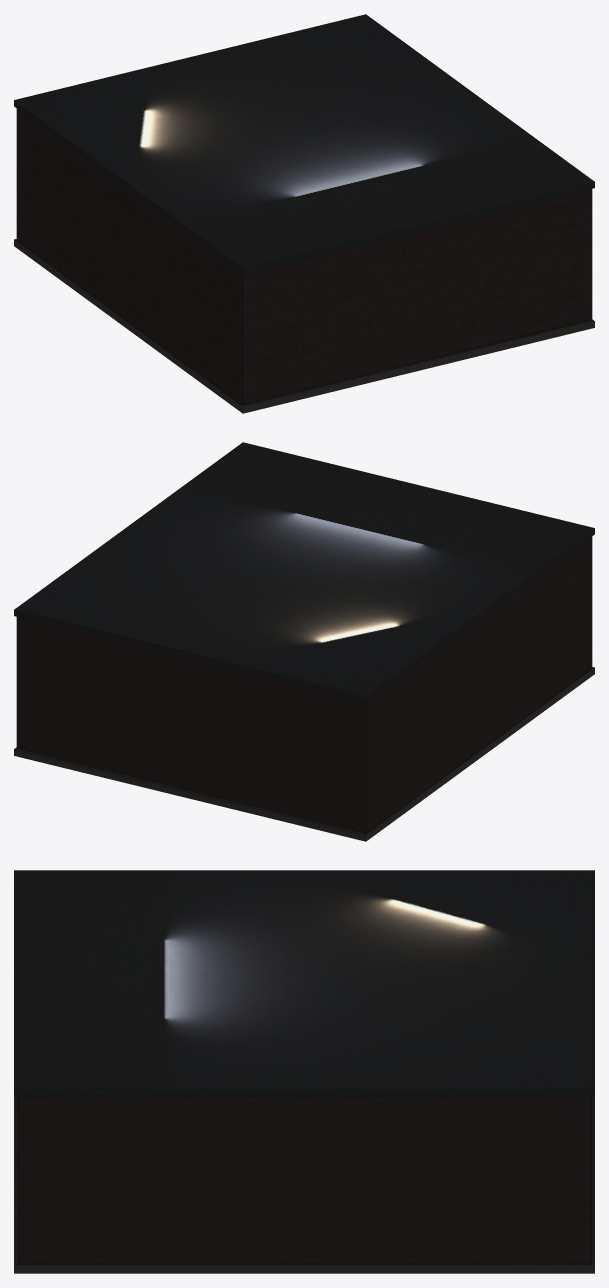
Rendered from room-intervalos.glb.
3 views of the same model, one above another, from view 1: azimuth 30°, elevation 25°; view 2: azimuth 150°, elevation 25°; view 3: azimuth 270°, elevation 25° (orthographic). The views are drawn at different scales.
Parts seen in each view (by area): view 1: intervalos; view 2: intervalos; view 3: intervalos.
Boxes of the visible parts, left/top/right/bottom form: intervalos: left=14, top=14, right=594, bottom=413; intervalos: left=14, top=442, right=594, bottom=841; intervalos: left=14, top=870, right=594, bottom=1273.
Bounding box in the file's own units: 16.6 × 6.58 × 18.7.
1 material, 1 textured.
